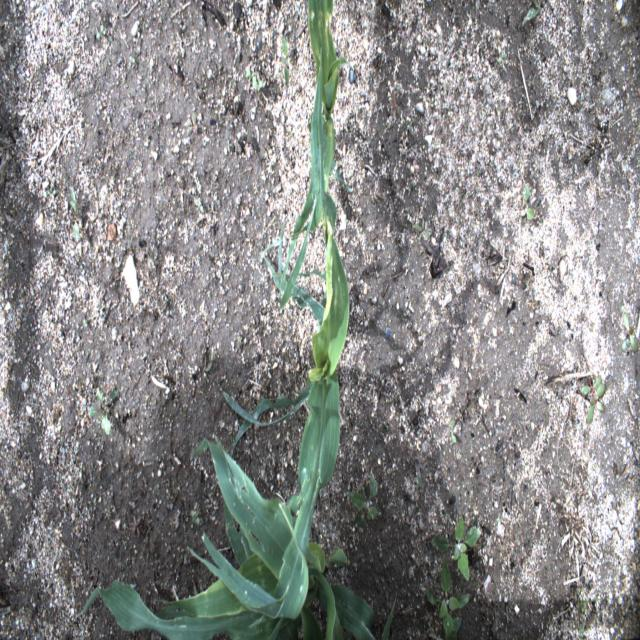crop: (186, 230, 352, 621), (76, 436, 396, 638), (277, 1, 346, 305)
weed: (426, 555, 470, 638), (432, 513, 480, 586), (346, 470, 379, 534), (86, 386, 120, 434), (582, 373, 606, 425), (622, 308, 638, 352), (520, 0, 540, 25), (281, 35, 290, 90), (521, 180, 532, 222), (414, 216, 430, 239), (189, 509, 200, 527), (449, 417, 456, 442), (499, 52, 506, 64), (98, 27, 103, 38)
